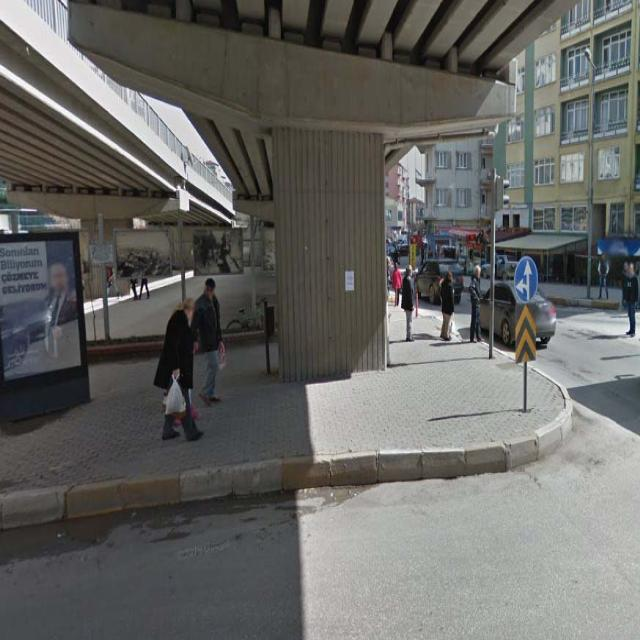ilerisol: (514, 257, 541, 302)
